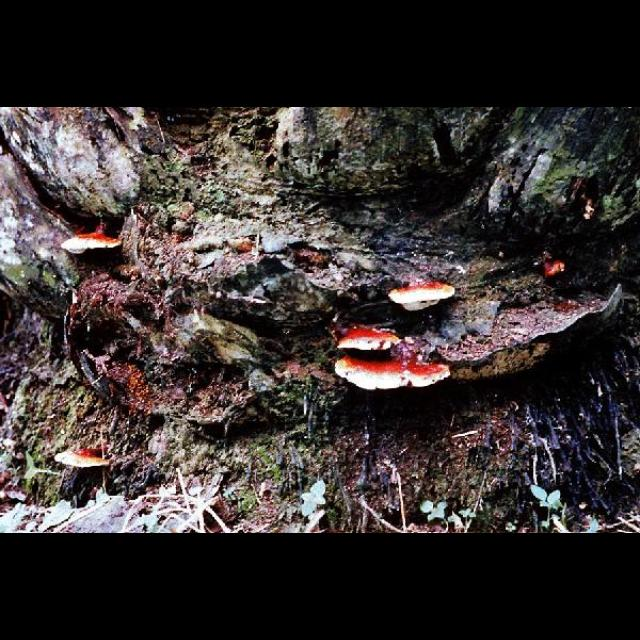ganoderma: (334, 355, 451, 394), (62, 223, 124, 258), (388, 281, 454, 313), (337, 325, 404, 354), (53, 446, 113, 471), (542, 260, 568, 282)
